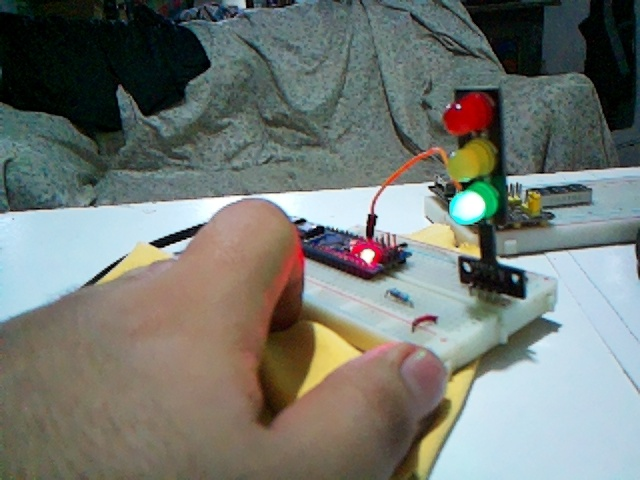traffic_light_green: (443, 88, 507, 224)
